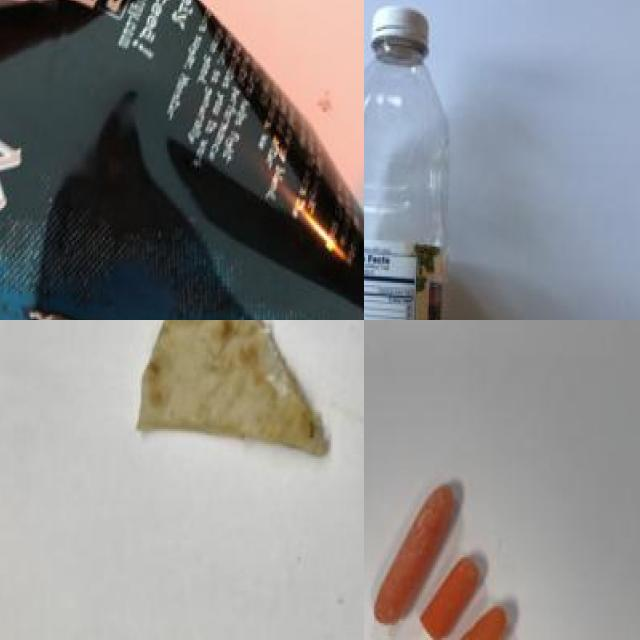compost: (364, 469, 630, 640), (120, 320, 357, 478)
plastic: (0, 0, 364, 320), (364, 0, 468, 320)
